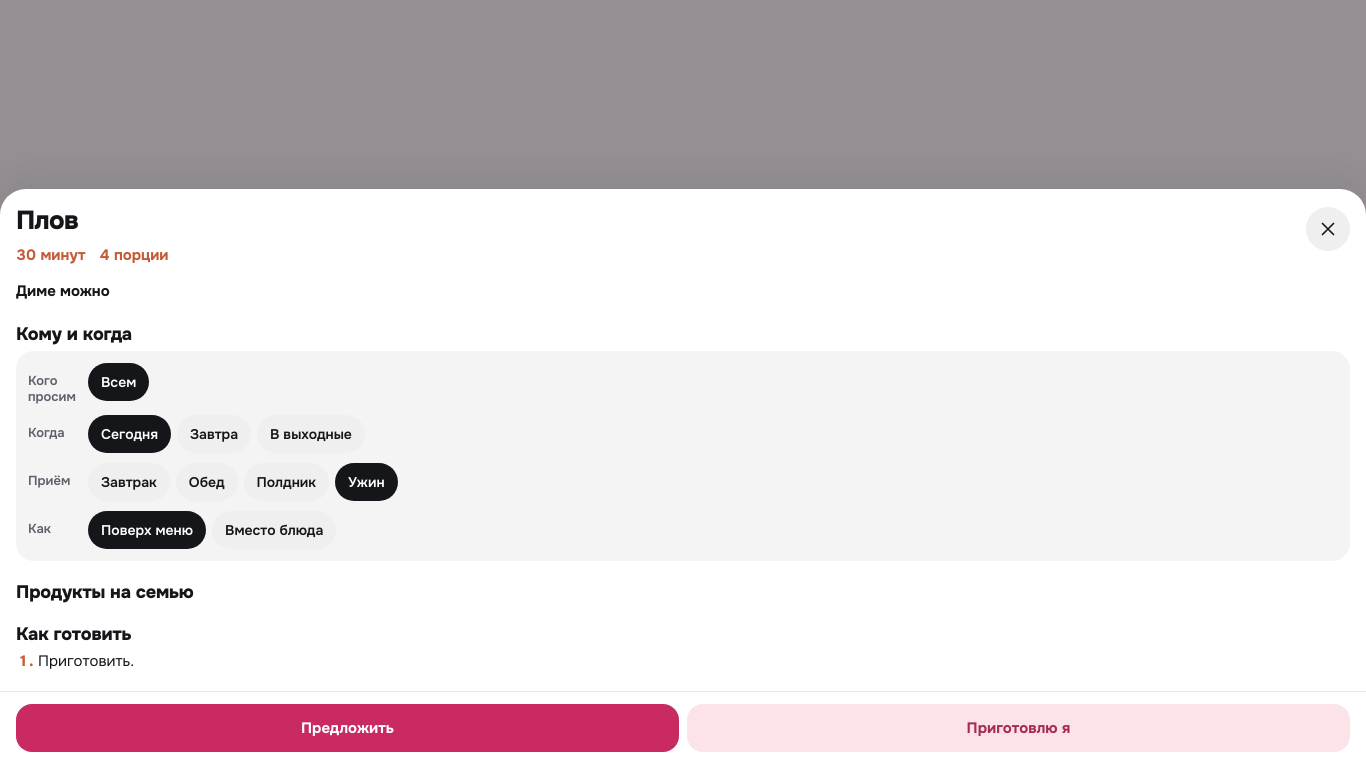
Test: RecipeSheet › names a failed offer on the sheet instead of doing nothing
This screenshot has width=1366, height=768.
Click the button "Предложить" at (348, 728), box left=16, top=704, right=679, bottom=752
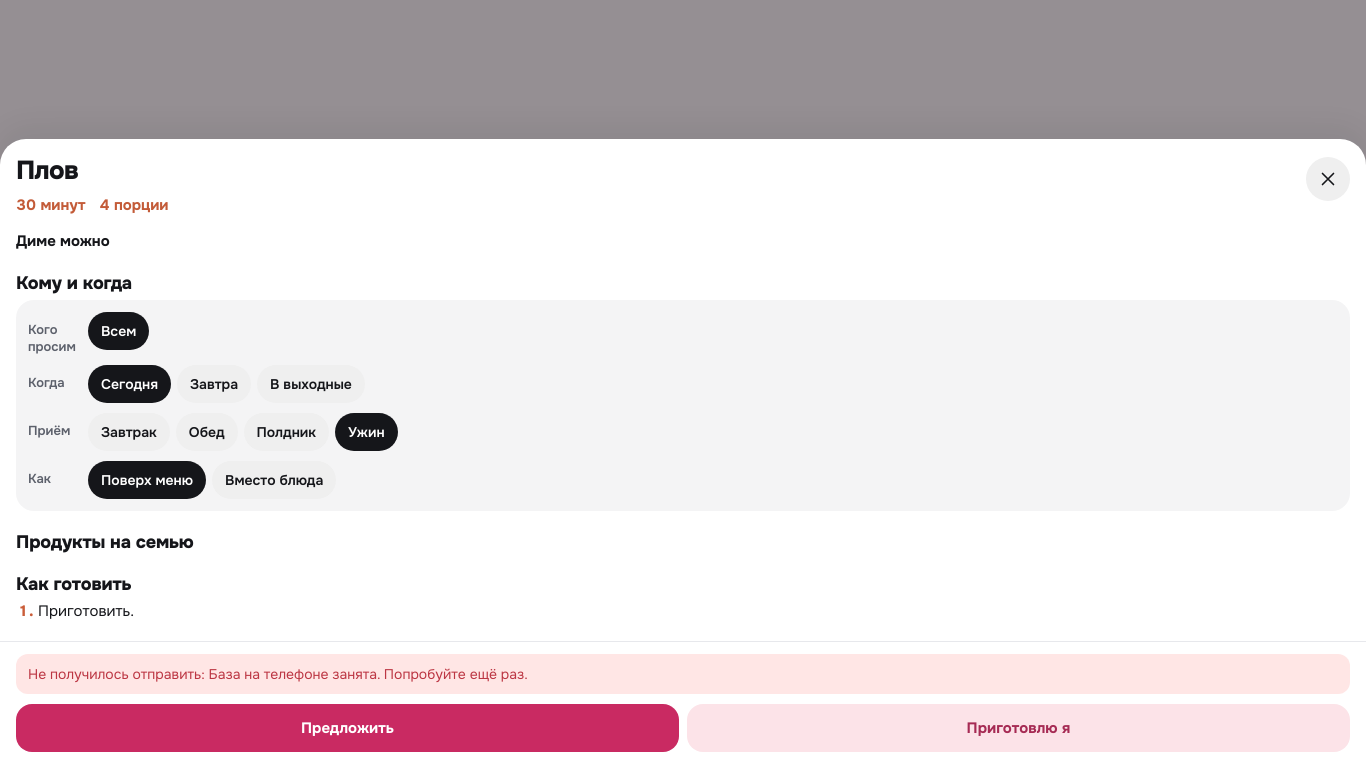
Expected: the message reads "Не получилось отправить: База на телефоне занята. Попробуйте ещё раз.", left=28, top=665, right=528, bottom=683
